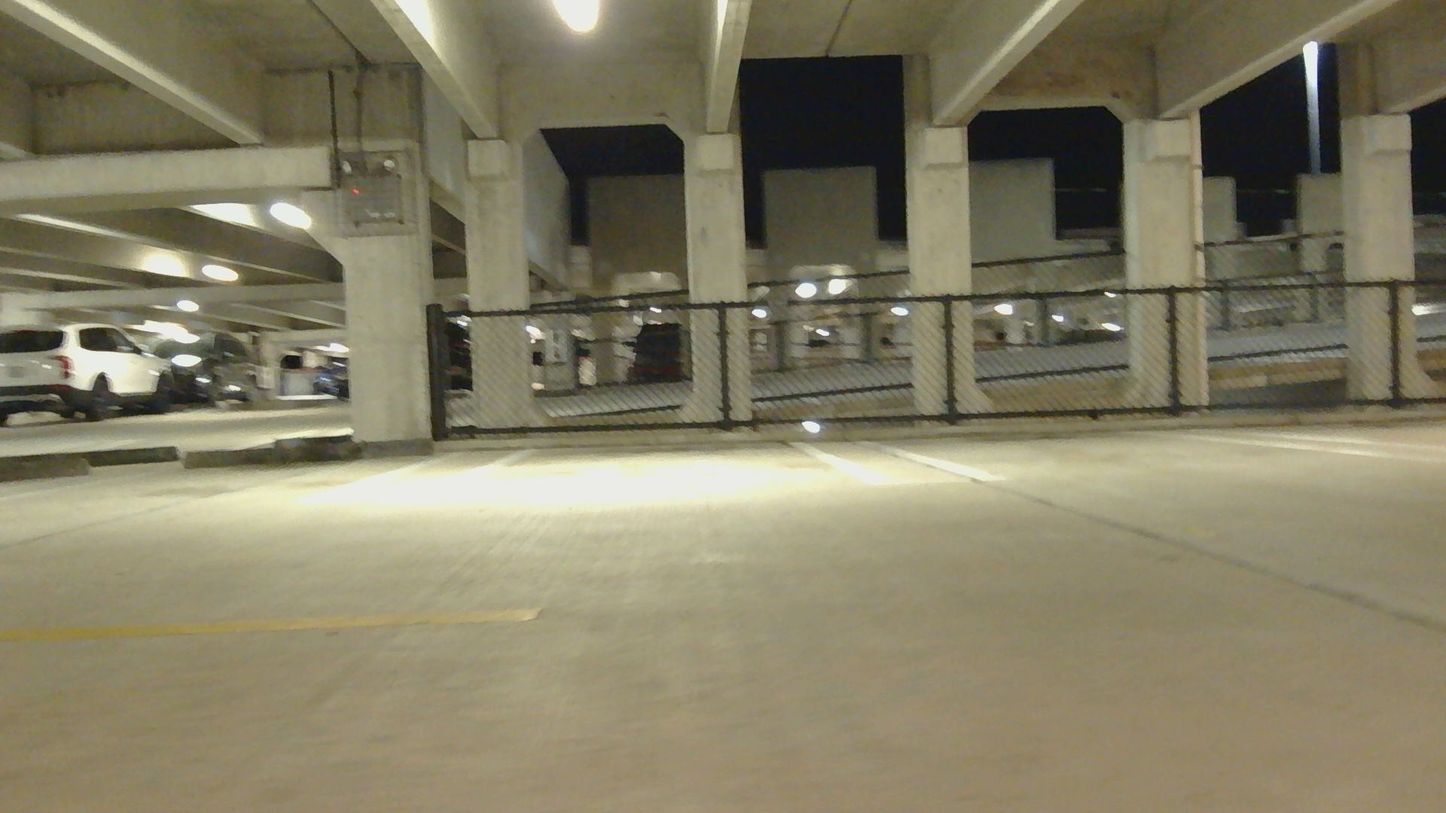empty_spot: (364, 346, 917, 518), (828, 351, 1445, 492), (0, 376, 468, 540), (1169, 352, 1446, 475)
